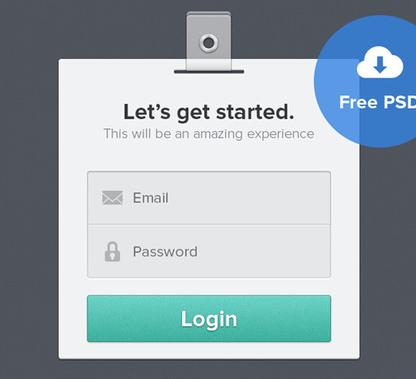button: (85, 293, 332, 344)
field: (86, 170, 335, 226), (86, 225, 333, 279)
